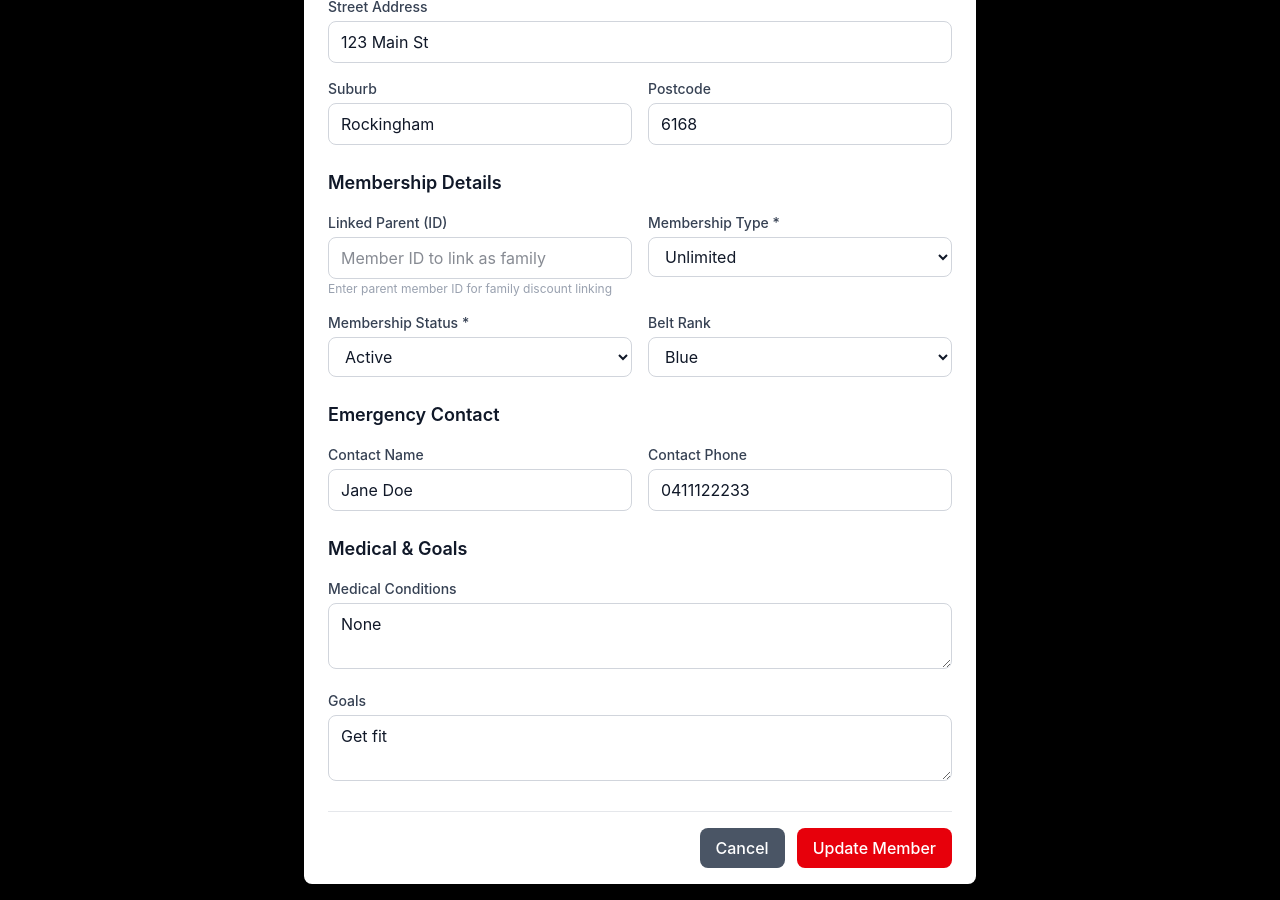
Test: EditMemberModal › shows submit error on API failure
(page scrolled)
Click the button "Update Member" at coordinates (874, 848), box [797, 828, 952, 868]
(page scrolled)
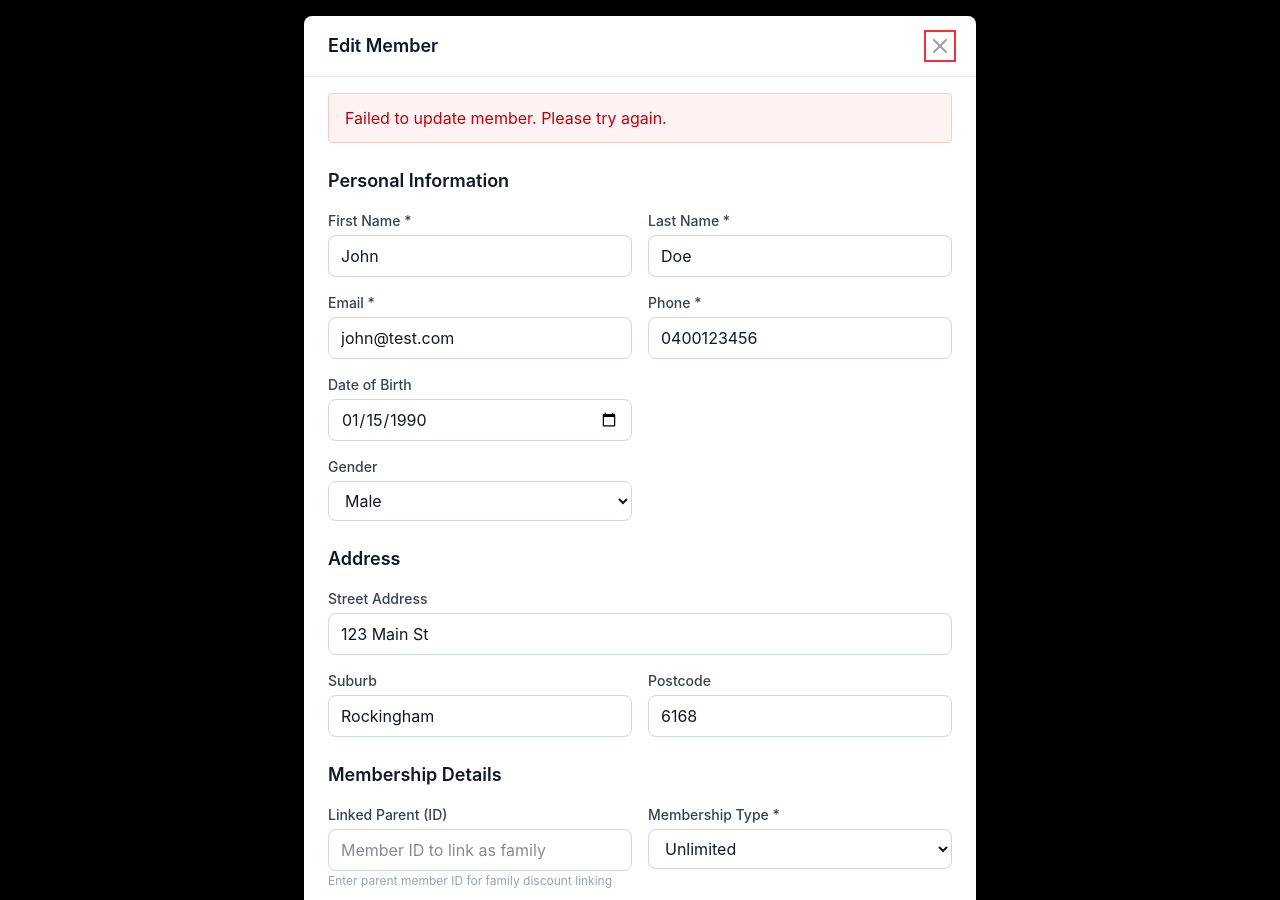
Check: the text "Failed to update member. Please try again." is shown, box [328, 93, 952, 143]
